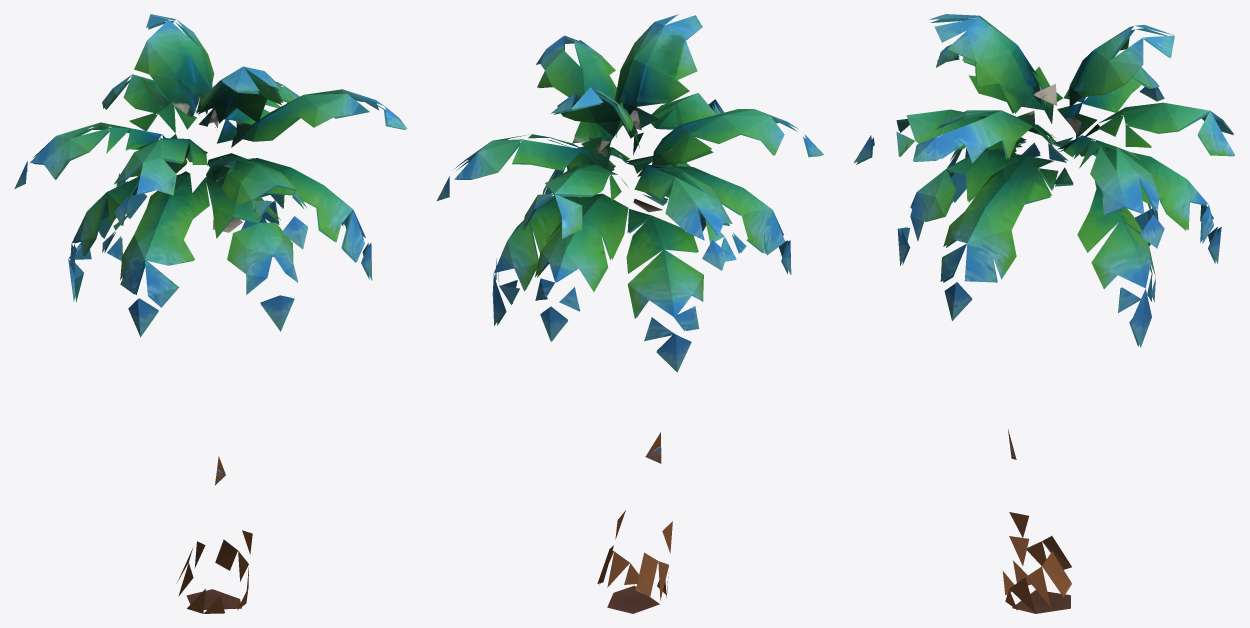
Rendered from tree_palm_LOD2.glb.
3 renders of one model, left to right at view 1: azimuth 30°, elevation 25°; view 2: azimuth 150°, elevation 25°; view 3: azimuth 270°, elevation 25°, orthographic. The views are drawn at different scales.
Visible parts, largest first — view 1: tree_palm_LOD2; view 2: tree_palm_LOD2; view 3: tree_palm_LOD2.
Part boxes in pixels (box(x1,y1,x2,y2)): tree_palm_LOD2: box(14, 14, 407, 613); tree_palm_LOD2: box(437, 14, 823, 613); tree_palm_LOD2: box(854, 14, 1235, 613).
Size of the model in its own units: 0.5381 by 0.9961 by 0.591.
1 material, 1 textured.
